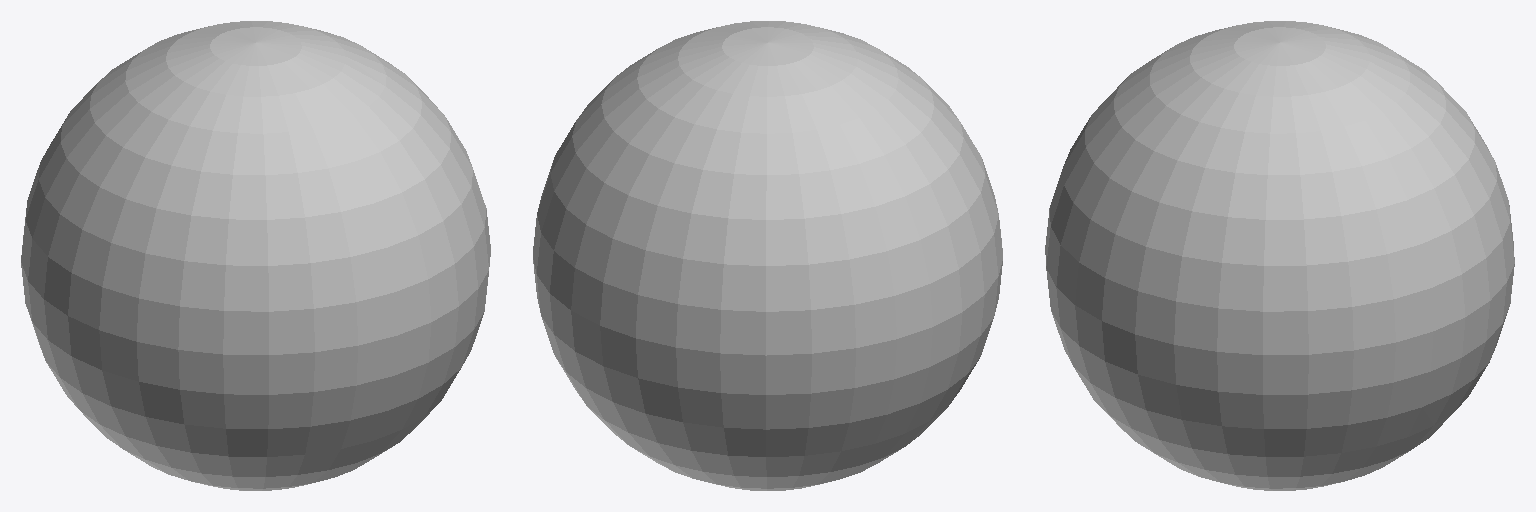
Rendered from mesh_legjoint_l2.obj.
3 renders of one model, left to right at view 1: azimuth 30°, elevation 25°; view 2: azimuth 150°, elevation 25°; view 3: azimuth 270°, elevation 25°, orthographic.
Visible parts, largest first — view 1: Sphere.011_Sphere.020; view 2: Sphere.011_Sphere.020; view 3: Sphere.011_Sphere.020.
Part boxes in pixels (x1,y1,x2,y2): Sphere.011_Sphere.020: (21,21,490,490); Sphere.011_Sphere.020: (533,21,1002,490); Sphere.011_Sphere.020: (1045,21,1514,490).
Bounding box in the file's own units: 0.2992 × 0.3 × 0.2992.